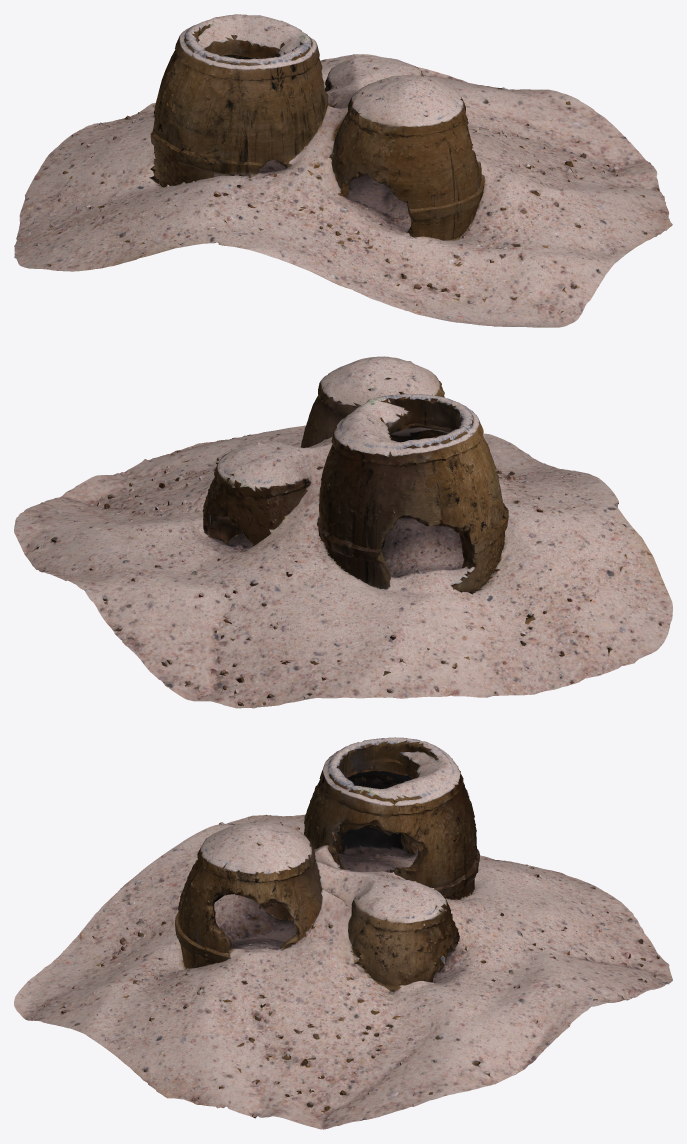
File: threebarrels.gltf
The picture shows the model from 3 angles, top to bottom: view 1: azimuth 30°, elevation 25°; view 2: azimuth 150°, elevation 25°; view 3: azimuth 270°, elevation 25°; orthographic projection. The views are drawn at different scales.
Parts seen in each view (by area): view 1: threebarrels; view 2: threebarrels; view 3: threebarrels.
Boxes of the visible parts, x1,y1,x2,y2 form: threebarrels: [14, 14, 672, 327]; threebarrels: [14, 356, 672, 708]; threebarrels: [14, 737, 672, 1129].
Bounding box in the file's own units: 22.45 × 6.93 × 21.5.
1 material, 1 textured.
